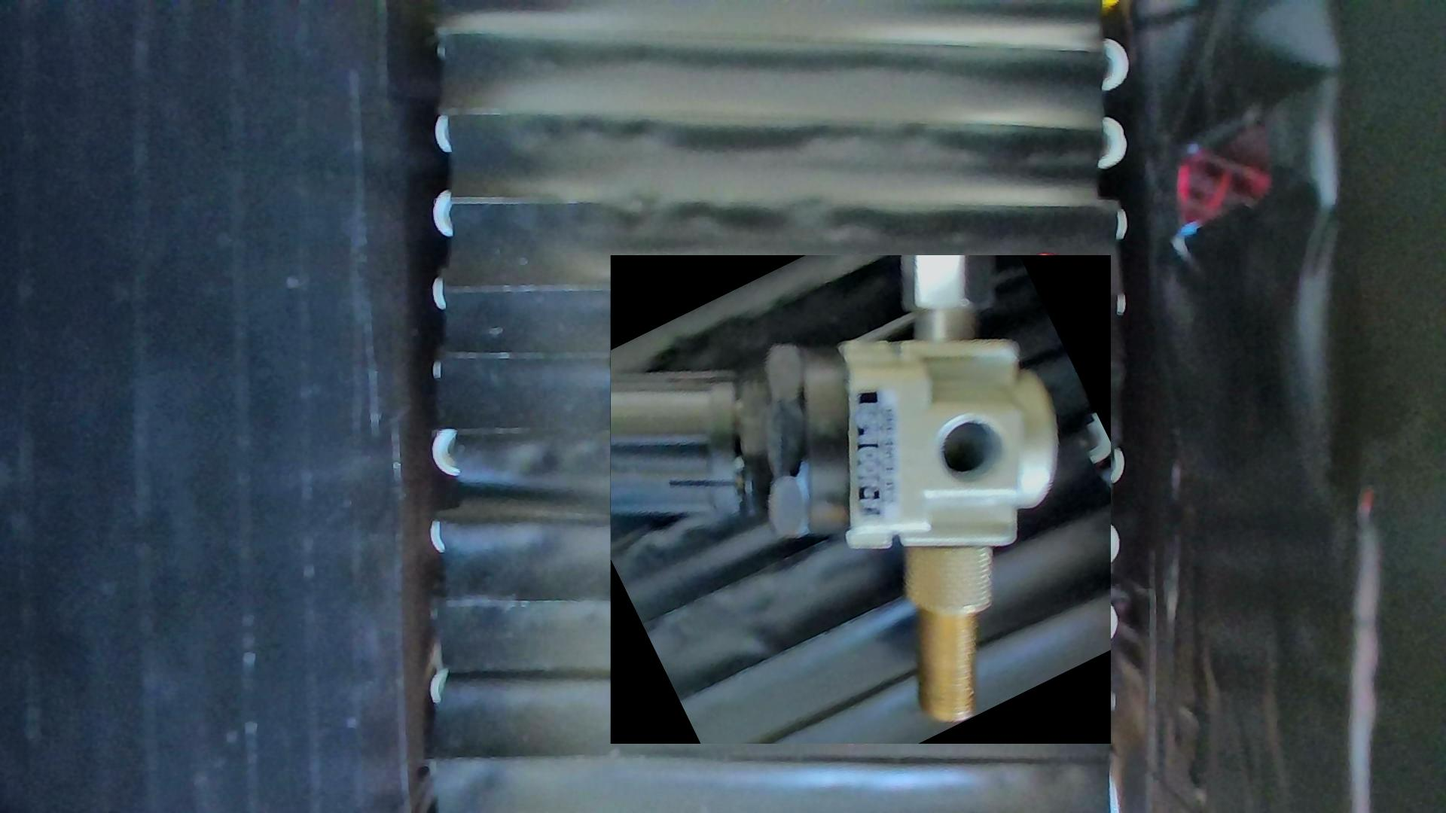regulator: (609, 255, 1110, 744)
